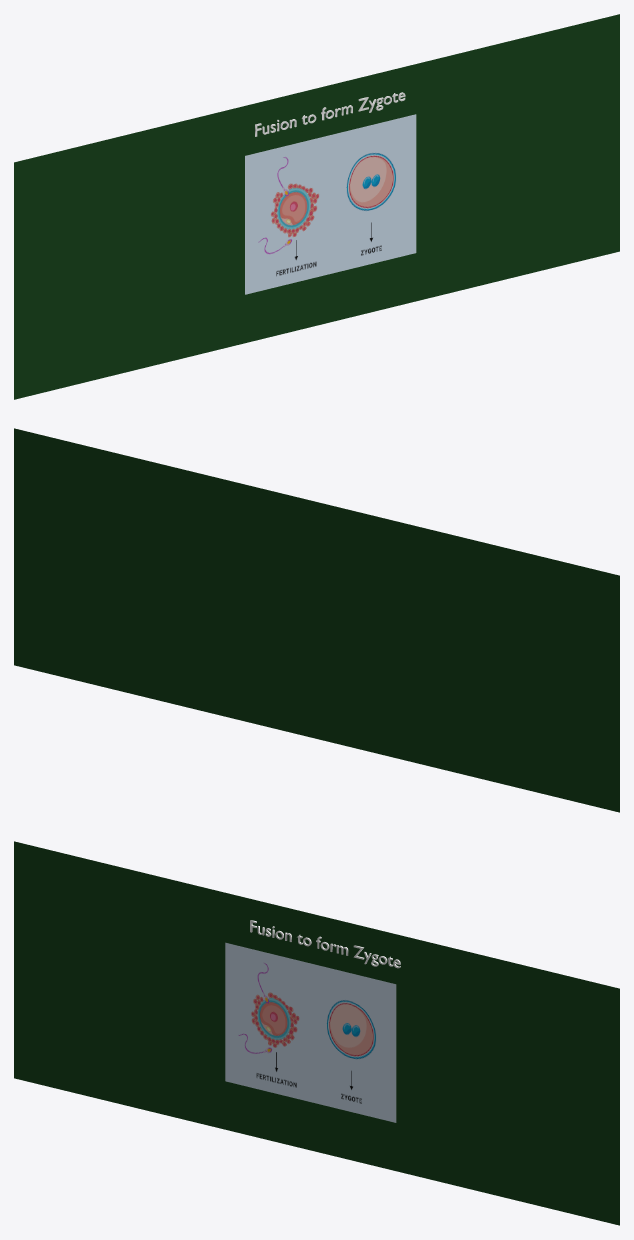
File: last.gltf
3 renders of one model, top to bottom at view 1: azimuth 30°, elevation 25°; view 2: azimuth 150°, elevation 25°; view 3: azimuth 330°, elevation 25°, orthographic.
Visible parts, largest first — view 1: Plane.013, Plane, Text.001; view 2: Plane.013; view 3: Plane.013, Plane, Text.001.
Boxes of the visible parts, <box> form: Plane.013: <box>14,14,619,399</box>; Plane: <box>245,114,416,294</box>; Text.001: <box>255,92,405,136</box>; Plane.013: <box>14,428,619,812</box>; Plane.013: <box>14,841,619,1225</box>; Plane: <box>225,942,396,1122</box>; Text.001: <box>250,920,400,968</box>.
Bounding box in the file's own units: 15.94 × 5.96 × 0.464.
Materials: 3 (1 with a texture image).
